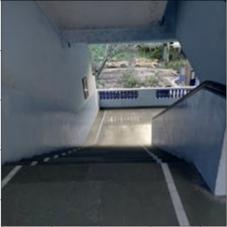Stair Down: (1, 145, 198, 174)
